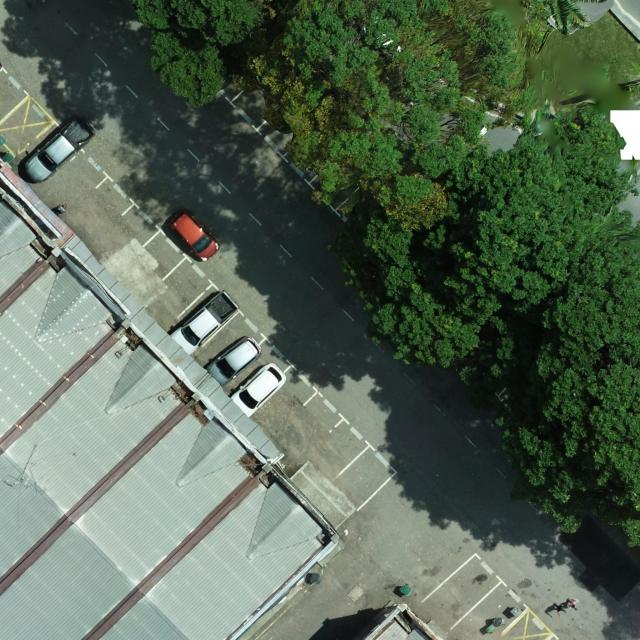Tree: (352, 99, 640, 371), (240, 0, 525, 236), (500, 227, 640, 551), (132, 0, 280, 112)
